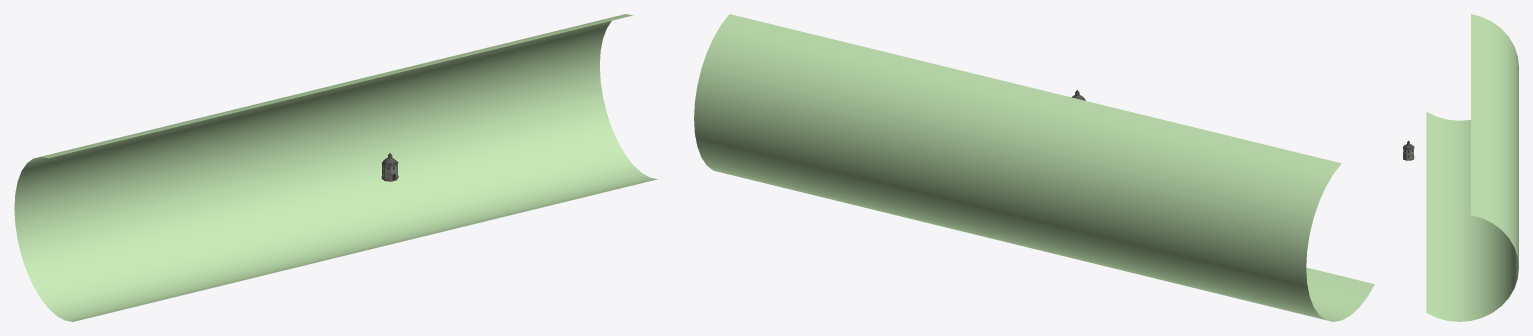
Rendered from dovecote.fbx.
3 renders of one model, left to right at view 1: azimuth 30°, elevation 25°; view 2: azimuth 150°, elevation 25°; view 3: azimuth 270°, elevation 25°, orthographic. The views are drawn at different scales.
Visible parts, largest first — view 1: Cylinder; view 2: Cylinder; view 3: Cylinder, dovecote.
Part boxes in pixels (x1,y1,x2,y2): Cylinder: (14,14,657,321); Cylinder: (694,14,1374,321); Cylinder: (1426,14,1518,321); dovecote: (1403,140,1414,160).
Size of the model in its own units: 25600 by 6339 by 6238.
